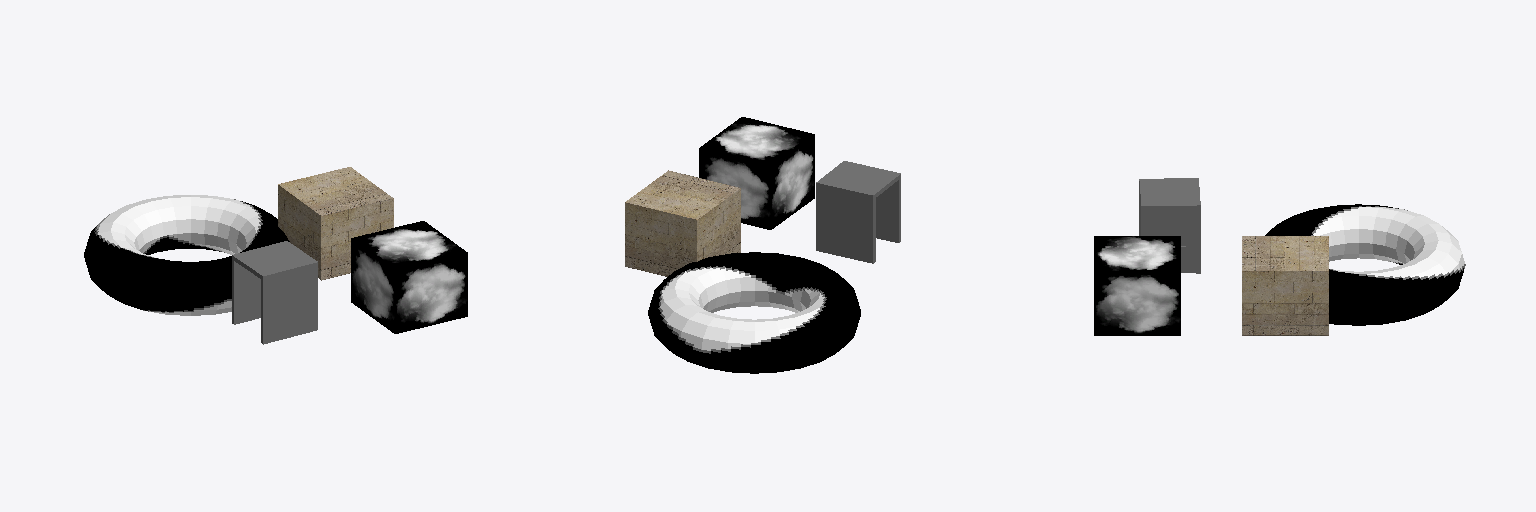
3 renders of one model, left to right at view 1: azimuth 30°, elevation 25°; view 2: azimuth 150°, elevation 25°; view 3: azimuth 270°, elevation 25°, orthographic.
Visible parts, largest first — view 1: Torus001, Box002, Box001, PivotDoor001; view 2: Torus001, Box001, Box002, PivotDoor001; view 3: Torus001, Box001, Box002, PivotDoor001.
Boxes of the visible parts, x1=… form: Torus001: x1=84, y1=195, x2=289, y2=315; Box002: x1=351, y1=221, x2=467, y2=333; Box001: x1=278, y1=167, x2=393, y2=280; PivotDoor001: x1=232, y1=241, x2=317, y2=344; Torus001: x1=648, y1=252, x2=860, y2=373; Box001: x1=625, y1=170, x2=740, y2=276; Box002: x1=699, y1=117, x2=814, y2=229; PivotDoor001: x1=816, y1=161, x2=900, y2=263; Torus001: x1=1265, y1=204, x2=1465, y2=325; Box001: x1=1242, y1=236, x2=1328, y2=335; Box002: x1=1094, y1=236, x2=1180, y2=335; PivotDoor001: x1=1139, y1=178, x2=1200, y2=273.
Size of the model in its own units: 114 by 42.49 by 154.
3 materials, 3 textured.